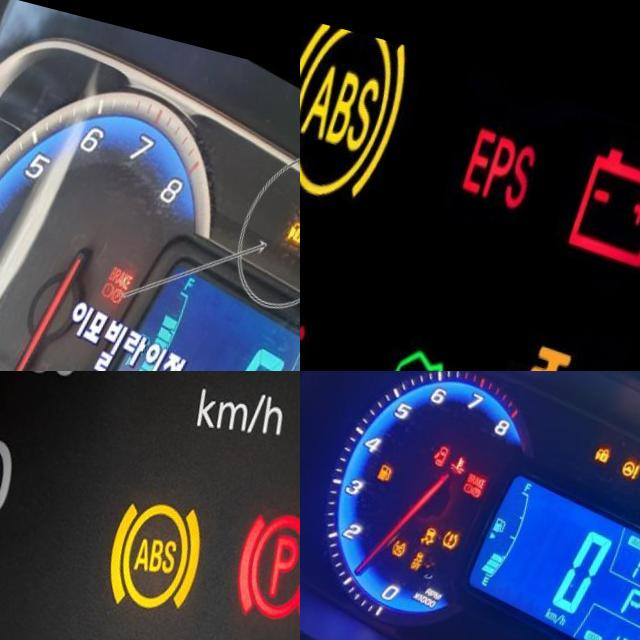Doors: (442, 431, 462, 457)
Engine cooling system: (460, 440, 481, 463)
Low fuel level: (389, 452, 407, 473)
